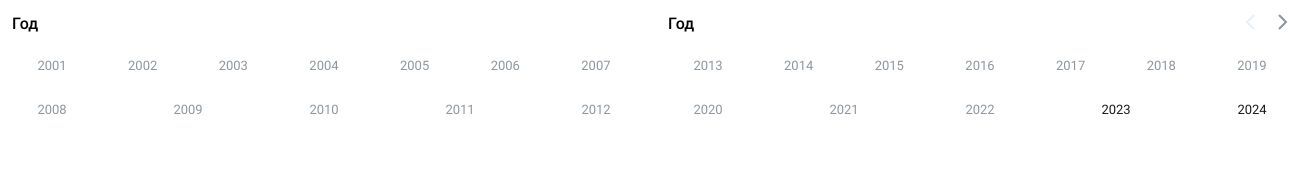
Test: Компонент CalendarYearsRange › При клике на неактивную ячейку первого двенадцатилетия появляется попап
Click the element showing "2001": (52, 66) [37, 58, 67, 73]
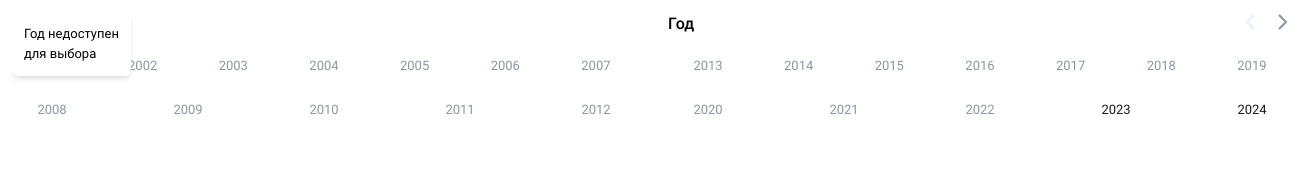
expect the text "Год недоступен для выбора" is shown: met, box [24, 26, 119, 61]
